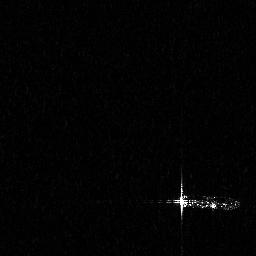ship: (151, 166, 241, 227)
